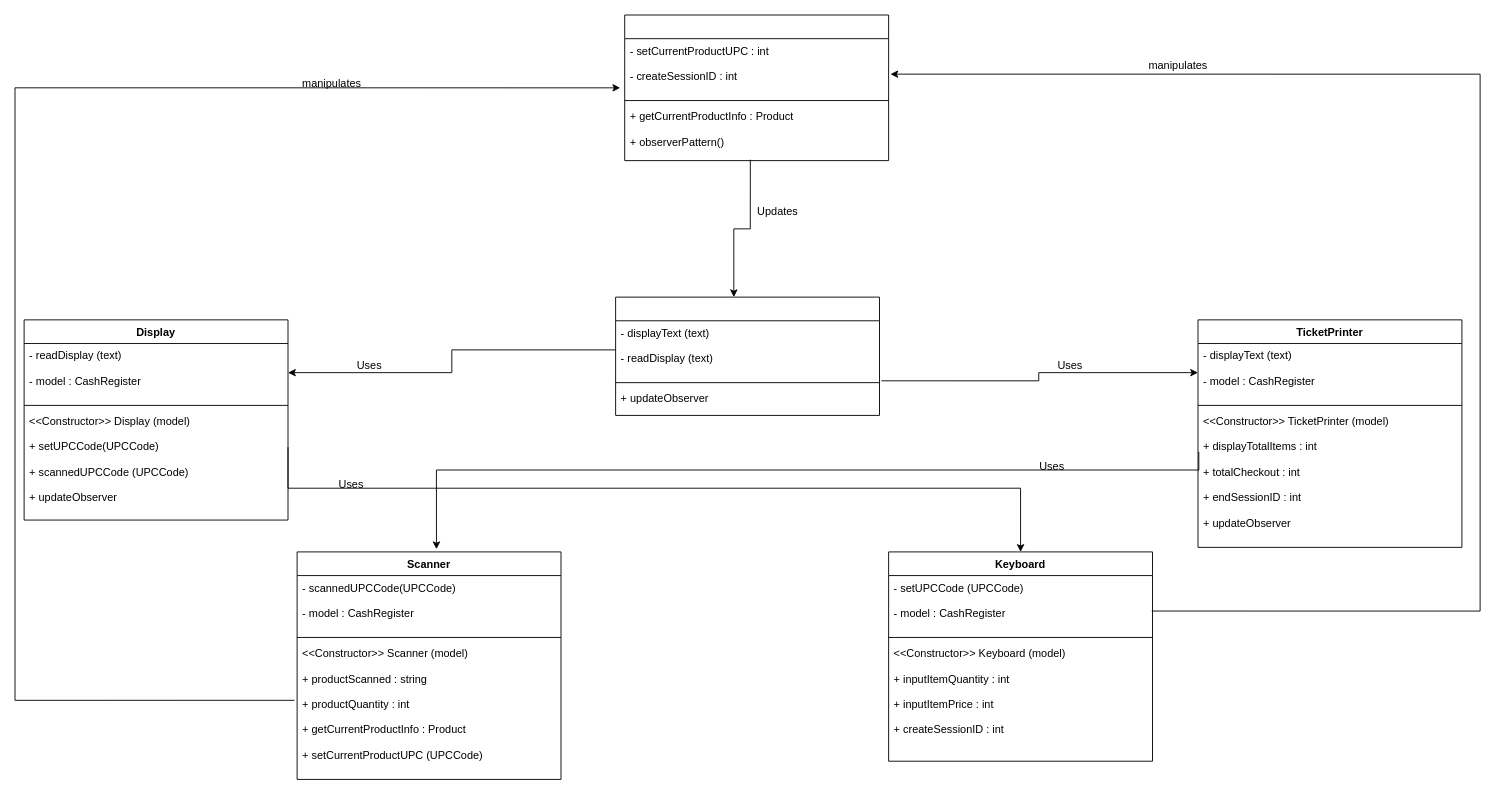
Some shapes in this 1495 by 794 pixel diagram are drawn without their labels. Each missing label, with the box of its shape:
CashRegisterModel: (624, 14, 889, 161)
ObserverPattern: (615, 296, 880, 415)
